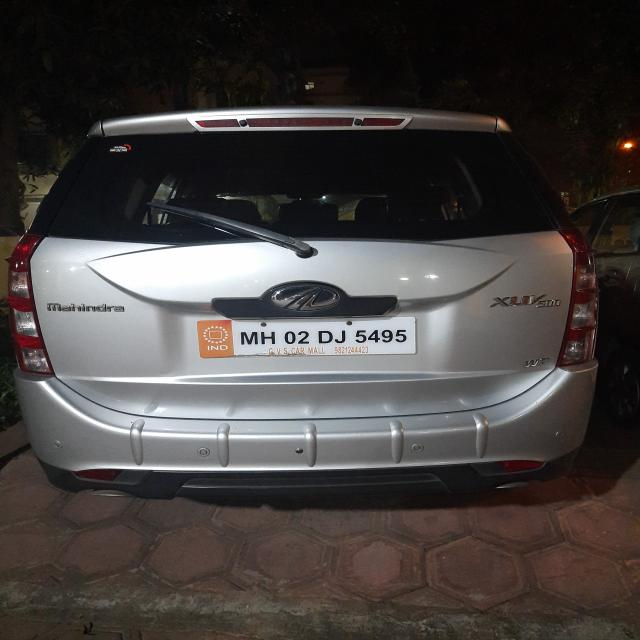Number-Plate: (198, 319, 416, 353)
